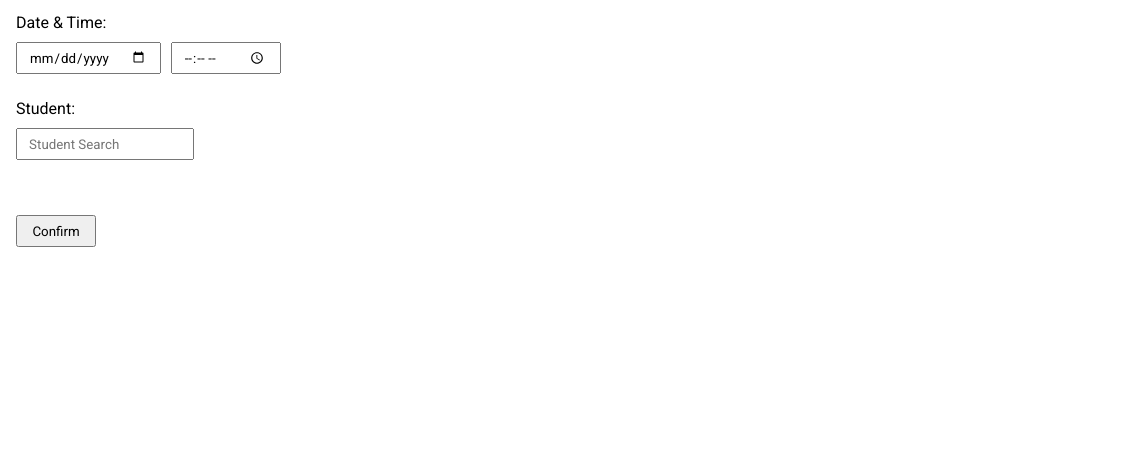
MakeAppt Form › should render classes when there is a student match
The image size is (1145, 471).
Type "Bob Smith" into the field with placeholder "Student Search" at [105, 144], box [16,128,194,160]
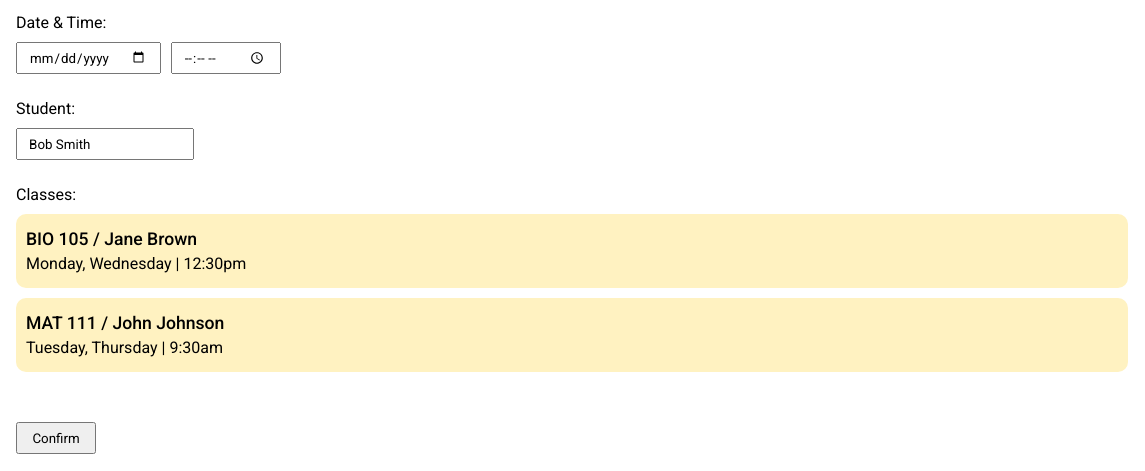
Result: the element with test id "section" that starts with "BIO 105" is shown at [16,214,1128,288]
Result: the element with test id "section" that starts with "MAT 111" is shown at [16,298,1128,372]
